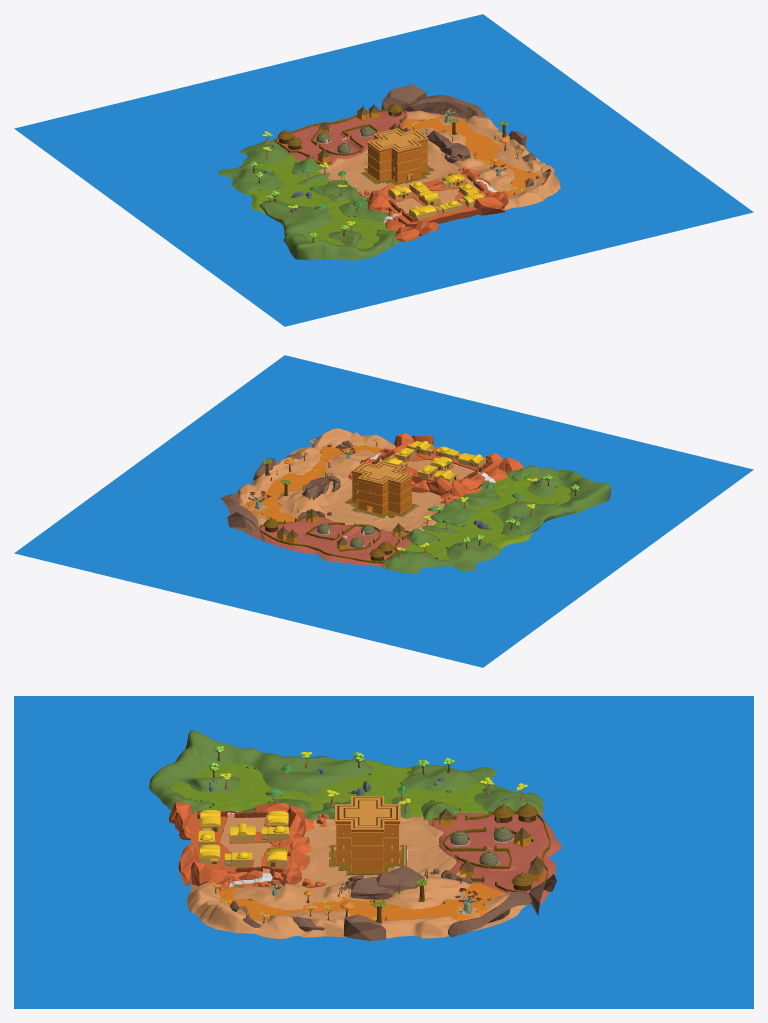
The model's file is Map (10).fbx.
3 views of the same model, one above another, from view 1: azimuth 30°, elevation 25°; view 2: azimuth 150°, elevation 25°; view 3: azimuth 270°, elevation 25° (orthographic). The views are drawn at different scales.
Parts seen in each view (by area): view 1: Sea, Ground Grass_01, Desert Ground_02, Ground Grass Floor_02, Lalibela_Building, Mali_Road, Desert Ground_01, Lalibela_Floor, Tunisia Ground_Base.001, Icosphere.004, Icosphere.005; view 2: Sea, Ground Grass_01, Desert Ground_02, Ground Grass Floor_02, Mali_Road, Lalibela_Building, Lalibela_Floor, Desert Ground_01, Tunisia Ground_Base.001; view 3: Sea, Ground Grass_01, Desert Ground_02, Ground Grass Floor_02, Mali_Road, Lalibela_Building, Lalibela_Floor, Desert Ground_01, Tunisia Ground_Base.001, Icosphere.004, Icosphere, Icosphere.002 (+2 smaller).
Boxes of the visible parts, box(x1,y1,x2,y2) form: Sea: box(14, 14, 753, 326); Ground Grass_01: box(218, 140, 399, 260); Desert Ground_02: box(407, 110, 560, 209); Ground Grass Floor_02: box(245, 153, 389, 248); Lalibela_Building: box(363, 128, 432, 184); Mali_Road: box(277, 110, 407, 166); Desert Ground_01: box(402, 117, 542, 196); Lalibela_Floor: box(317, 150, 463, 197); Tunisia Ground_Base.001: box(385, 178, 487, 227); Icosphere.004: box(404, 95, 487, 119); Icosphere.005: box(381, 84, 426, 109); Sea: box(14, 355, 753, 667); Ground Grass_01: box(382, 465, 610, 573); Desert Ground_02: box(236, 428, 396, 526); Ground Grass Floor_02: box(399, 474, 571, 559); Mali_Road: box(249, 517, 411, 568); Lalibela_Building: box(347, 460, 416, 517); Lalibela_Floor: box(322, 477, 451, 531); Desert Ground_01: box(246, 445, 380, 522); Tunisia Ground_Base.001: box(375, 445, 497, 483); Sea: box(14, 696, 753, 1008); Ground Grass_01: box(149, 730, 543, 820); Desert Ground_02: box(187, 875, 526, 938); Ground Grass Floor_02: box(171, 760, 489, 816); Mali_Road: box(428, 812, 561, 903); Lalibela_Building: box(331, 796, 404, 873); Lalibela_Floor: box(296, 815, 456, 886); Desert Ground_01: box(218, 883, 503, 920); Tunisia Ground_Base.001: box(187, 811, 292, 873); Icosphere.004: box(448, 890, 531, 937); Icosphere: box(343, 914, 385, 940); Icosphere.002: box(376, 865, 424, 892).
Bounding box in the file's own units: 28973 × 2671 × 28973.
